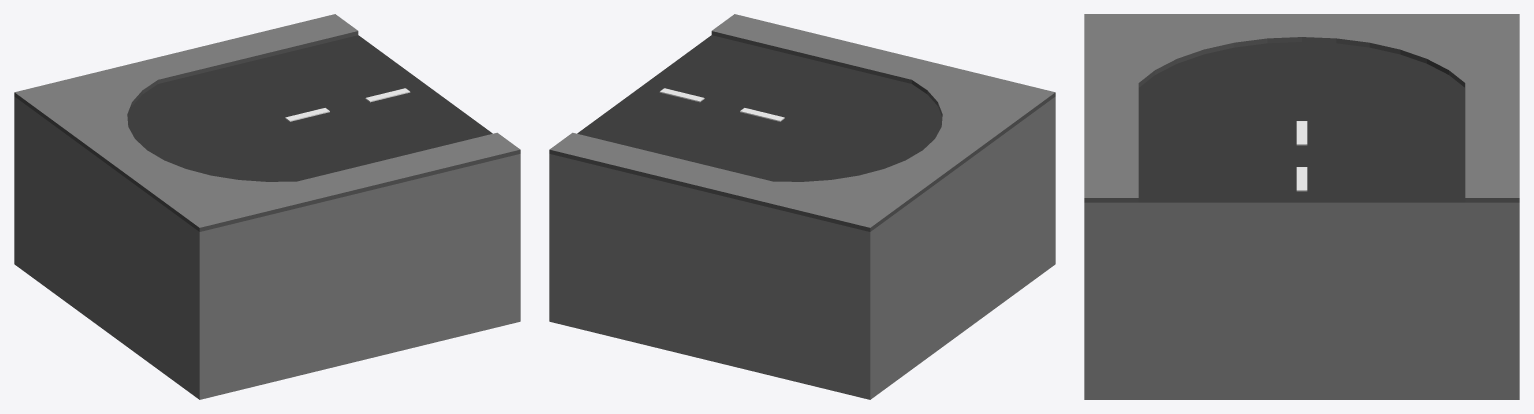
Rendered from CornerStreet.glb.
3 views of the same model, side by side, from view 1: azimuth 30°, elevation 25°; view 2: azimuth 150°, elevation 25°; view 3: azimuth 270°, elevation 25° (orthographic). The views are drawn at different scales.
Parts seen in each view (by area): view 1: Cube, Cube.005, Cube.003, Cube.001, Cube.002, Cube.004; view 2: Cube, Cube.005, Cube.003, Cube.002, Cube.001, Cube.004; view 3: Cube, Cube.005, Cube.003, Cube.001, Cube.002, Cube.004.
Part boxes in pixels (<box>): Cube: <box>14,96,520,399</box>; Cube.005: <box>127,35,492,181</box>; Cube.003: <box>14,63,319,231</box>; Cube.001: <box>297,132,520,202</box>; Cube.002: <box>135,14,358,83</box>; Cube.004: <box>285,88,410,121</box>; Cube: <box>549,96,1055,399</box>; Cube.005: <box>577,35,942,181</box>; Cube.003: <box>750,63,1055,231</box>; Cube.002: <box>549,132,772,202</box>; Cube.001: <box>711,14,934,83</box>; Cube.004: <box>659,88,784,121</box>; Cube: <box>1084,202,1519,399</box>; Cube.005: <box>1138,42,1465,202</box>; Cube.003: <box>1084,14,1519,87</box>; Cube.001: <box>1084,83,1138,202</box>; Cube.002: <box>1465,83,1519,202</box>; Cube.004: <box>1296,121,1307,191</box>.
Size of the model in its own units: 16 by 8.2 by 16.
Materials: 2 (2 with a texture image).
